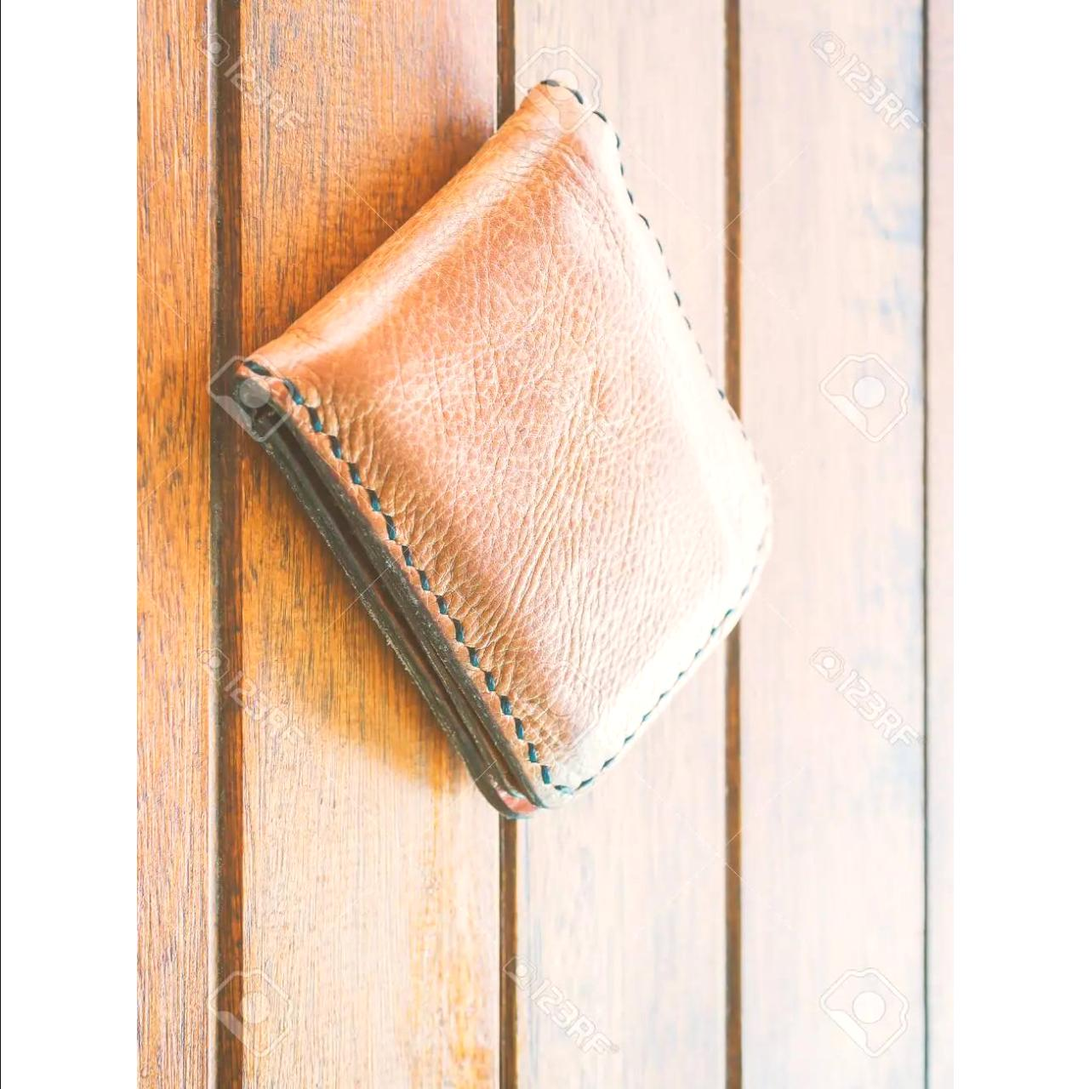wallet: (184, 83, 799, 844)
